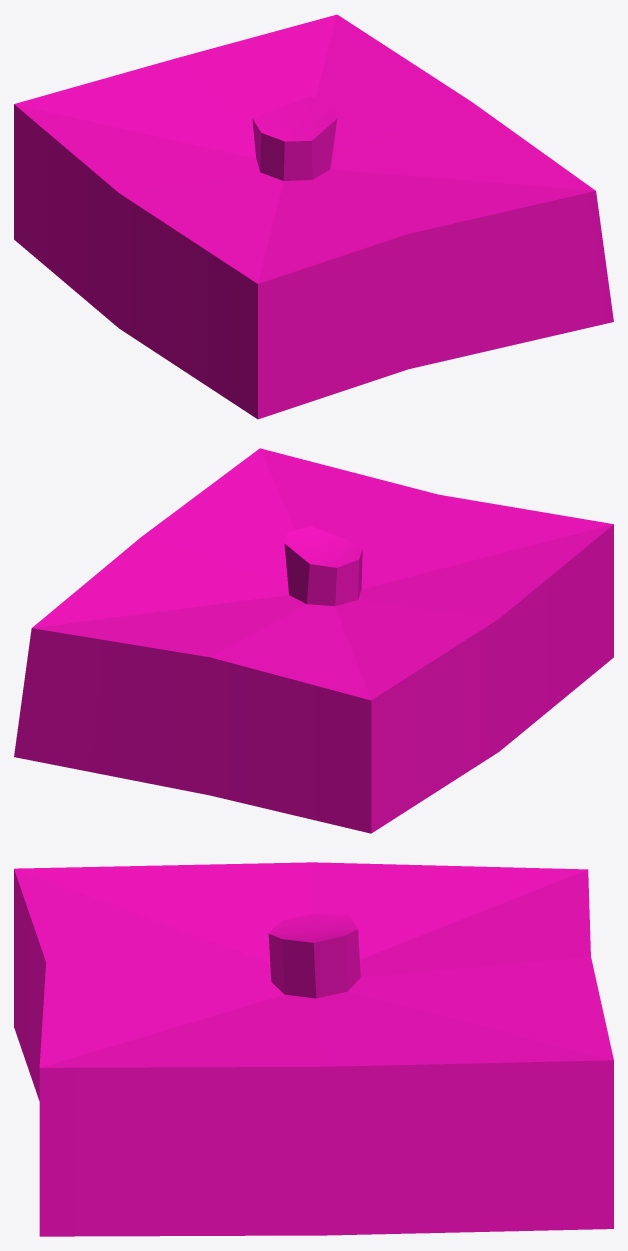
The model's file is study_paperpile_3_meshCollider.fbx.
The picture shows the model from 3 angles, top to bottom: view 1: azimuth 30°, elevation 25°; view 2: azimuth 150°, elevation 25°; view 3: azimuth 270°, elevation 25°; orthographic projection. The views are drawn at different scales.
Parts seen in each view (by area): view 1: study_paperpile_3_meshCollider; view 2: study_paperpile_3_meshCollider; view 3: study_paperpile_3_meshCollider.
Boxes of the visible parts, x1,y1,x2,y2 form: study_paperpile_3_meshCollider: (14, 14, 613, 419); study_paperpile_3_meshCollider: (14, 448, 613, 833); study_paperpile_3_meshCollider: (14, 862, 613, 1236).
Size of the model in its own units: 21.38 by 9.32 by 25.12.
